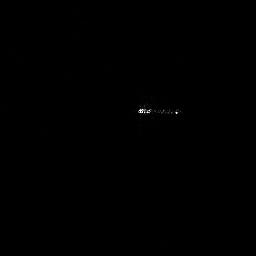ship: (136, 102, 183, 120)
